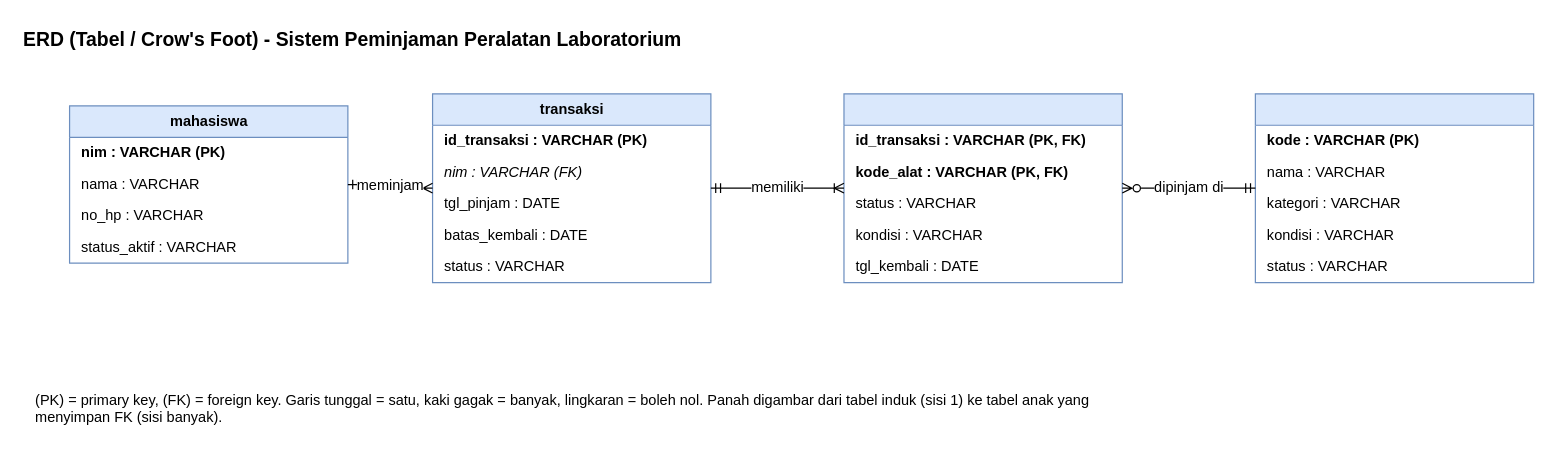
Image size: 1555x453. Some labels were removed from this diagram. Each missing label, with the box of its shape:
alat: (1254, 93, 1534, 283)
detail_transaksi: (843, 93, 1122, 283)
